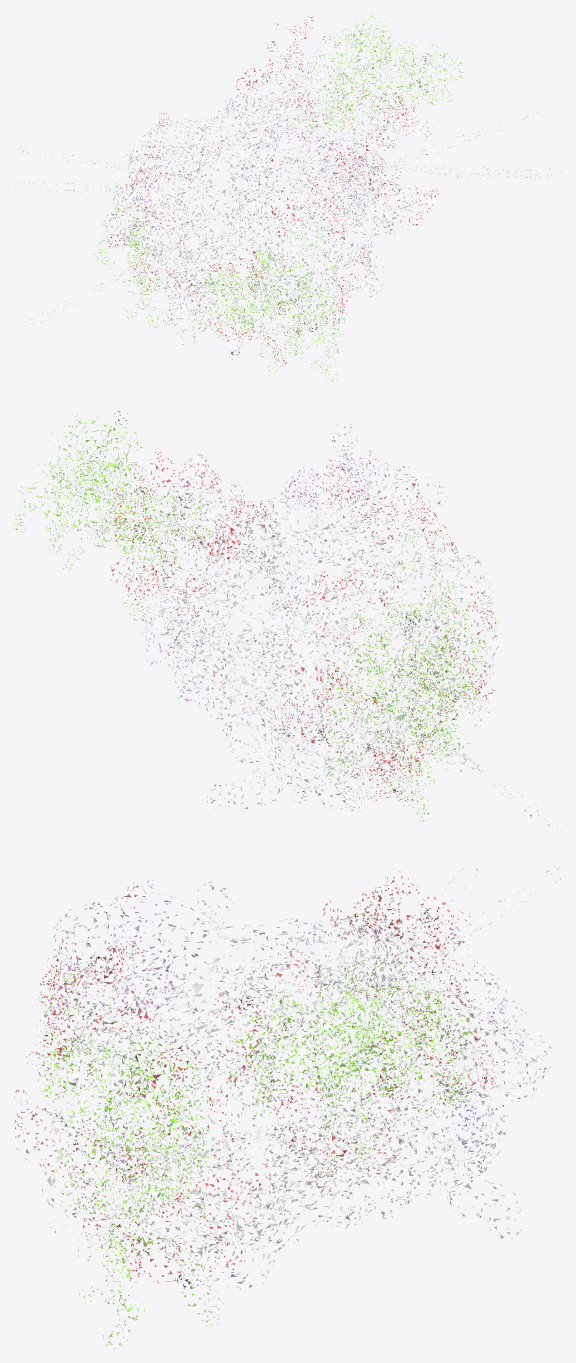
File: cassiopeia-a-web.glb
The picture shows the model from 3 angles, top to bottom: view 1: azimuth 30°, elevation 25°; view 2: azimuth 150°, elevation 25°; view 3: azimuth 270°, elevation 25°; orthographic projection. The views are drawn at different scales.
Visible parts, largest first — view 1: Cassiopeia A Supernova; view 2: Cassiopeia A Supernova; view 3: Cassiopeia A Supernova.
Boxes of the visible parts, <box> form: Cassiopeia A Supernova: <box>17,15,561,381</box>; Cassiopeia A Supernova: <box>14,411,561,835</box>; Cassiopeia A Supernova: <box>14,864,560,1348</box>.
Size of the model in its own units: 18.9 by 11.37 by 11.35.
Materials: 1 (1 with a texture image).
